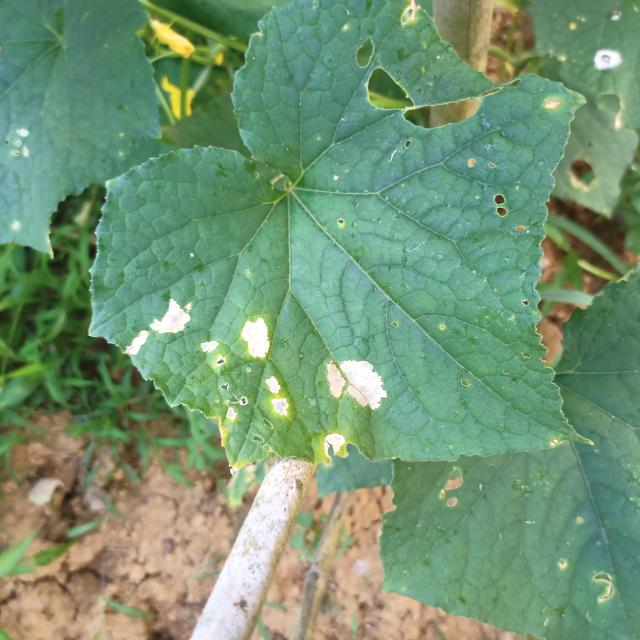disease_cucumber: (200, 310, 295, 421), (316, 350, 388, 414), (119, 295, 195, 355), (313, 419, 353, 459)
